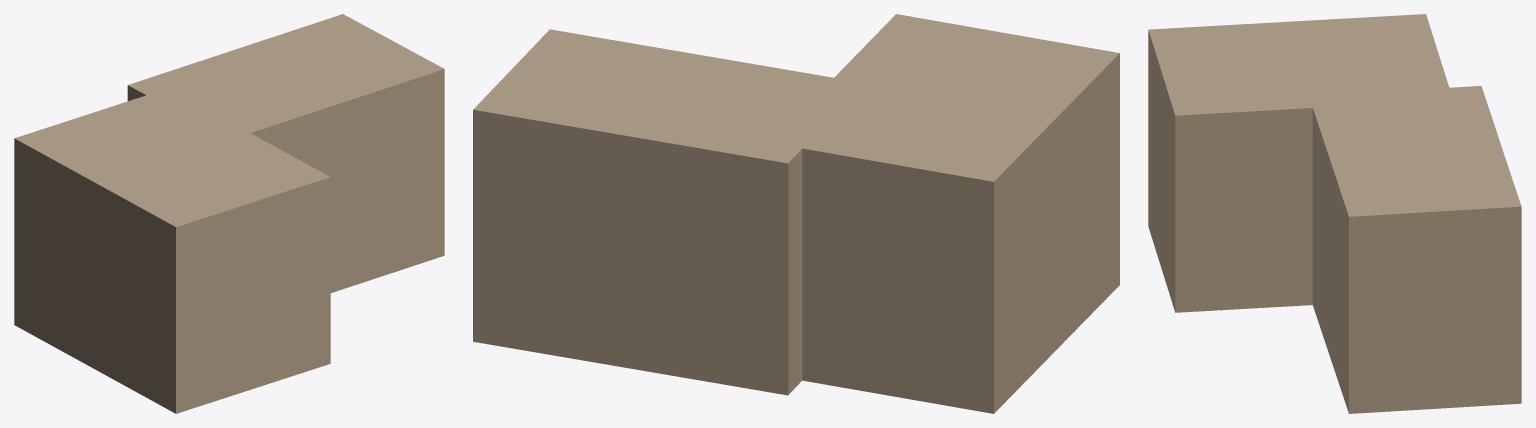
Rendered from bld_107639496.dae.
The picture shows the model from 3 angles, left to right: view 1: azimuth 30°, elevation 25°; view 2: azimuth 150°, elevation 25°; view 3: azimuth 270°, elevation 25°; orthographic projection. The views are drawn at different scales.
Visible parts, largest first — view 1: bld_107639496; view 2: bld_107639496; view 3: bld_107639496.
Part boxes in pixels (box(x1,y1,x2,y2)): bld_107639496: box(14, 14, 444, 413); bld_107639496: box(473, 14, 1119, 413); bld_107639496: box(1148, 14, 1521, 413).
Bounding box in the file's own units: 17.66 × 13.73 × 8.
